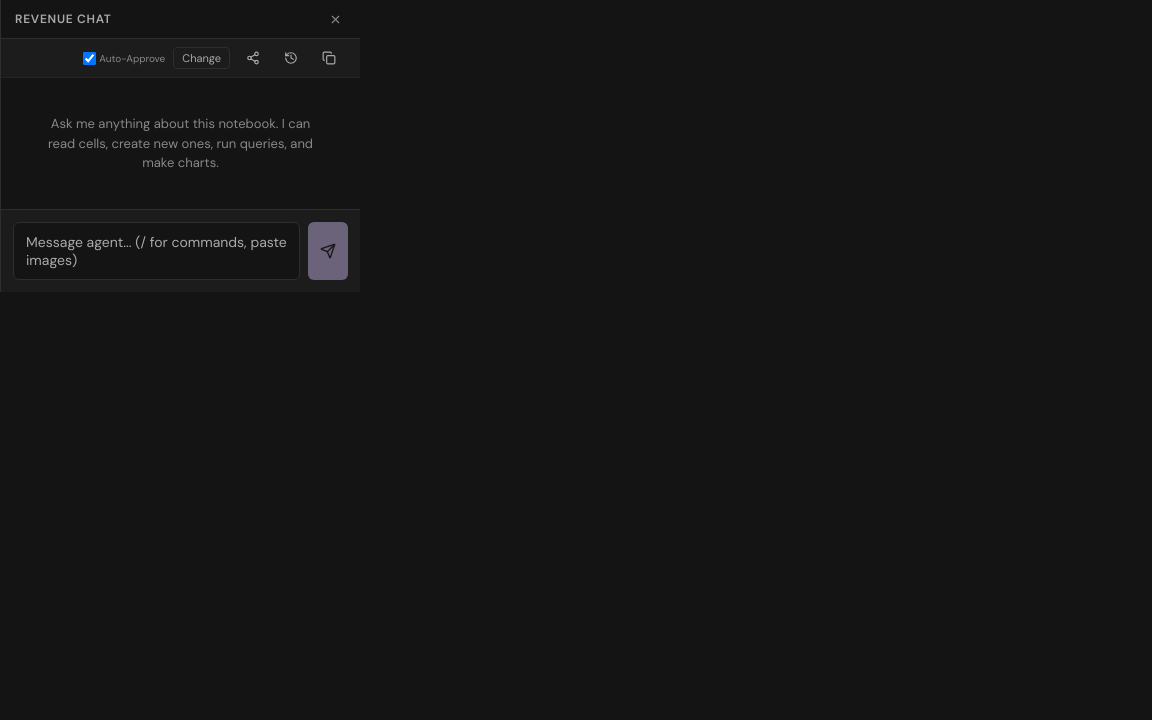
AgentPanel session sharing › opens the permissions dialog from the chat header with the notebook link
Click the button named "Share this session" at (253, 58), box [238,48,268,68]
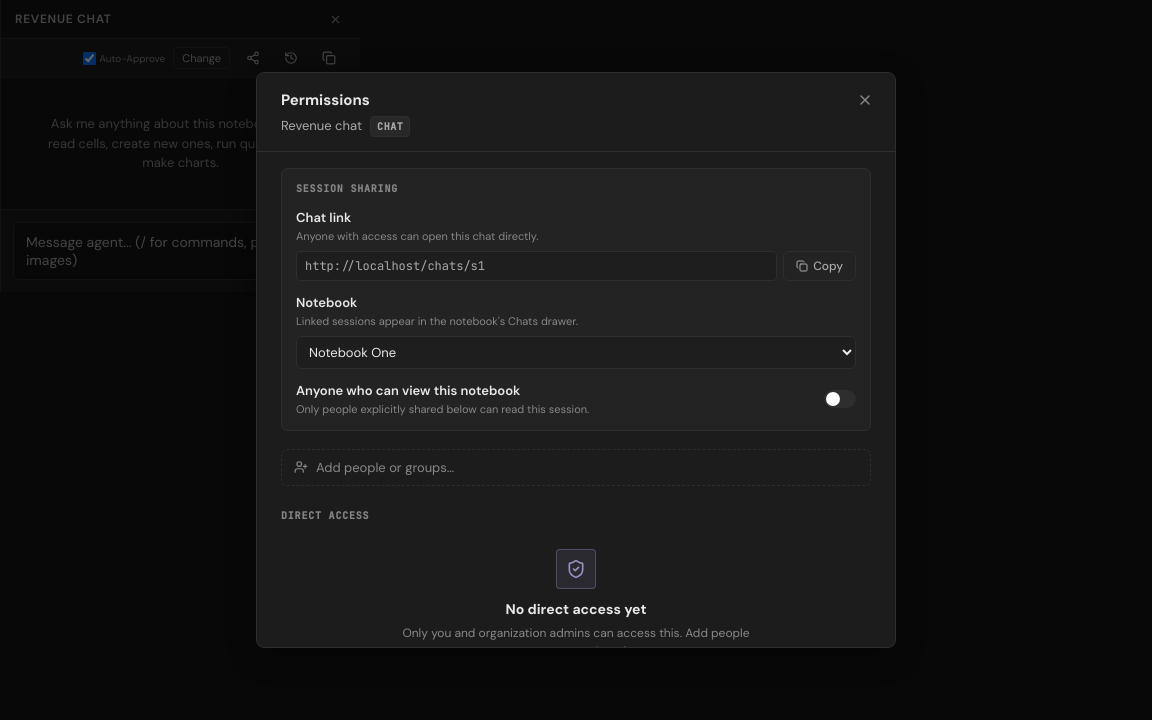
expect the dropdown named "Notebook" shows "Notebook One": met, box [296,336,856,368]
expect the text "Anyone who can view this notebook" is shown: met, box [296,382,520,398]
